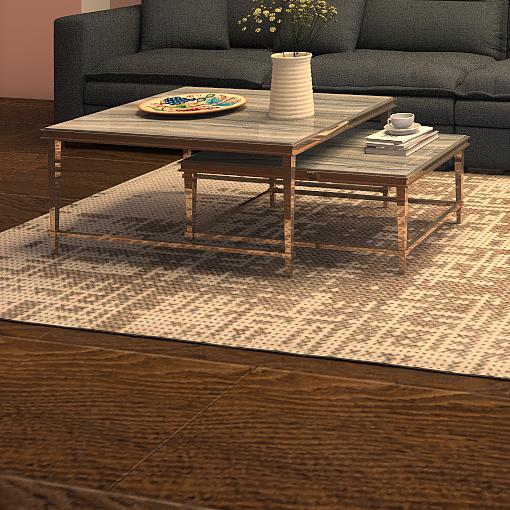table: (40, 85, 399, 277), (176, 122, 471, 268)
